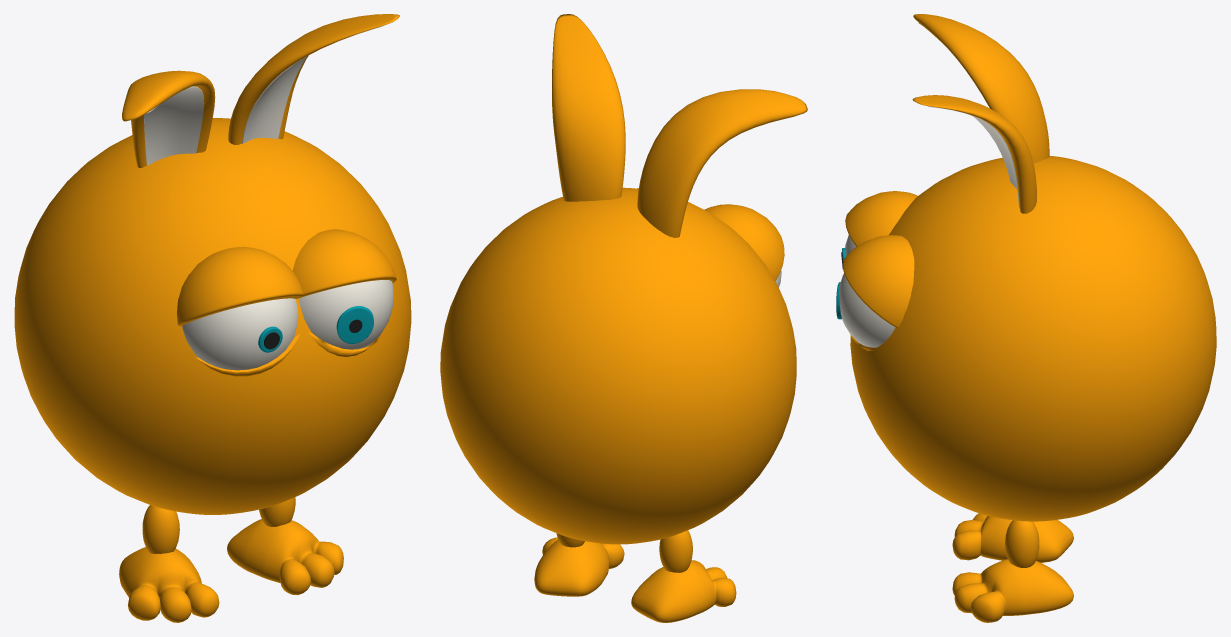
File: Bunny.fbx
3 views of the same model, side by side, from view 1: azimuth 30°, elevation 25°; view 2: azimuth 150°, elevation 25°; view 3: azimuth 270°, elevation 25° (orthographic). The views are drawn at different scales.
Visible parts, largest first — view 1: Body, FussRechts, Sphere2586, FussLinks, AugenlidRechts, OhrRechtsAussen, Sphere2585, OhrLinksAussen, OhrInnenLinks, OhrRechtsInnen, BeinLinks, BeinRechts; view 2: Body, OhrRechtsAussen, OhrLinksAussen, FussLinks, FussRechts, BeinLinks; view 3: Body, OhrLinksAussen, FussRechts, AugenlidRechts, FussLinks, OhrRechtsAussen, Sphere2585, BeinRechts, OhrRechtsInnen.
Boxes of the visible parts, x1,y1,x2,y2 form: Body: [14, 118, 411, 514]; FussRechts: [227, 519, 343, 595]; Sphere2586: [182, 298, 298, 370]; FussLinks: [119, 547, 219, 622]; AugenlidRechts: [292, 229, 396, 298]; OhrRechtsAussen: [228, 14, 399, 144]; Sphere2585: [298, 280, 393, 349]; OhrLinksAussen: [122, 70, 215, 167]; OhrInnenLinks: [144, 86, 204, 165]; OhrRechtsInnen: [242, 25, 385, 143]; BeinLinks: [142, 505, 179, 553]; BeinRechts: [259, 497, 295, 526]; Body: [440, 187, 796, 544]; OhrRechtsAussen: [552, 14, 625, 201]; OhrLinksAussen: [637, 89, 807, 237]; FussLinks: [631, 560, 736, 622]; FussRechts: [534, 537, 624, 596]; BeinLinks: [659, 530, 692, 572]; Body: [836, 156, 1216, 521]; OhrLinksAussen: [913, 14, 1049, 163]; FussRechts: [952, 559, 1073, 622]; AugenlidRechts: [843, 235, 914, 328]; FussLinks: [952, 513, 1073, 562]; OhrRechtsAussen: [912, 95, 1036, 213]; Sphere2585: [839, 273, 895, 347]; BeinRechts: [1005, 520, 1039, 567]; OhrRechtsInnen: [927, 106, 1019, 208].
Size of the model in its own units: 217 by 348 by 225.
